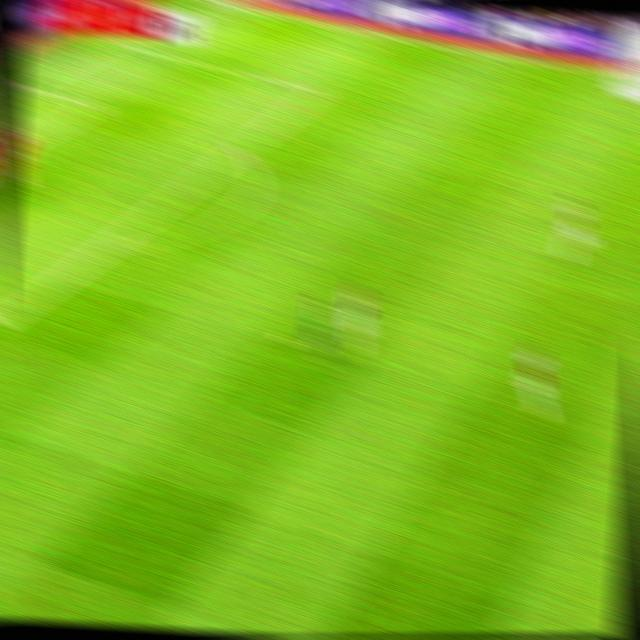bigarea_top_inner: (306, 77, 334, 101)
bigarea_top_outter: (10, 75, 38, 96), (104, 33, 132, 51)
bottom_arc_area_intersection: (93, 231, 123, 257)
corner: (190, 0, 222, 9)
smallarea_top_inner: (80, 93, 108, 116)
smallarea_top_outter: (10, 75, 38, 96)
top_arc_area_intersection: (225, 137, 252, 161)
